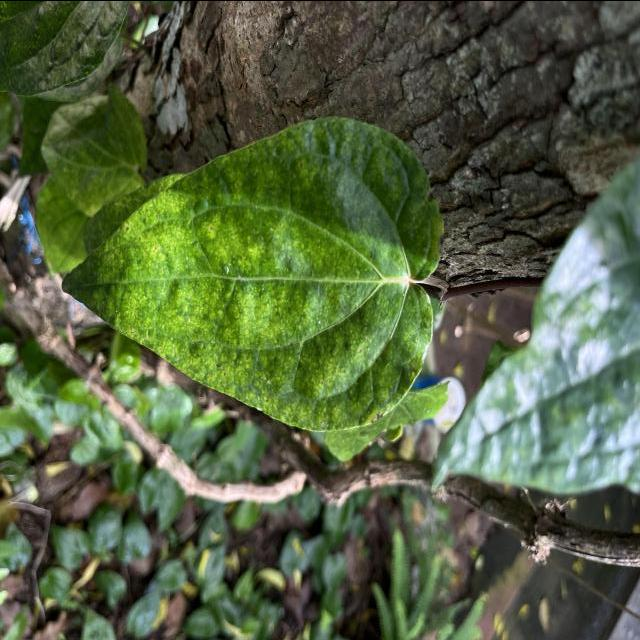Piper betle: (55, 110, 446, 433)
